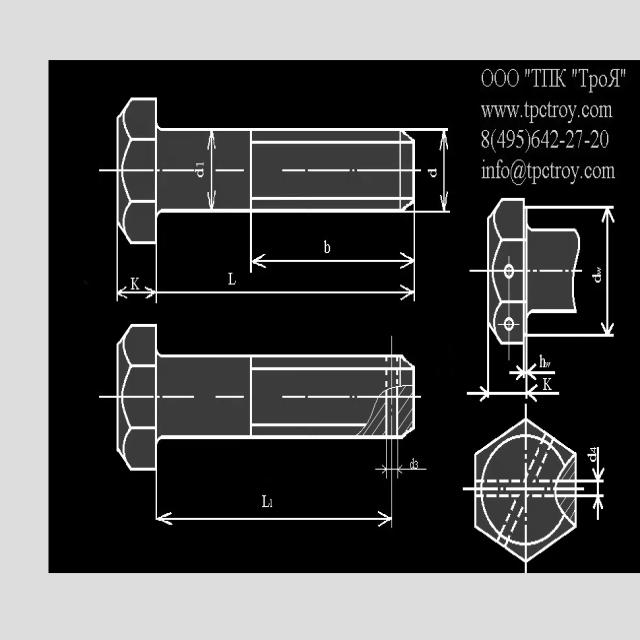marking_line: (146, 245, 418, 304), (153, 472, 394, 530), (248, 216, 417, 275), (466, 345, 560, 403), (581, 205, 615, 334), (415, 128, 451, 216), (116, 245, 159, 300), (375, 441, 428, 479), (578, 445, 604, 522), (509, 346, 561, 380), (205, 130, 218, 208)
numeric: (480, 129, 490, 149), (506, 128, 516, 148), (590, 127, 599, 149), (565, 127, 574, 148), (531, 128, 540, 148), (540, 129, 549, 149), (599, 129, 609, 147), (516, 129, 525, 148), (574, 128, 582, 148), (497, 130, 505, 149), (550, 130, 558, 149), (130, 275, 140, 290), (228, 270, 237, 285), (261, 493, 270, 508), (426, 167, 438, 178), (323, 239, 331, 255), (543, 377, 552, 391), (586, 452, 597, 462), (540, 354, 547, 368), (195, 169, 204, 178), (592, 275, 601, 283), (409, 457, 414, 469), (590, 446, 597, 453), (545, 360, 551, 368), (269, 497, 273, 508), (195, 163, 204, 167), (596, 267, 601, 274), (414, 461, 418, 468)
